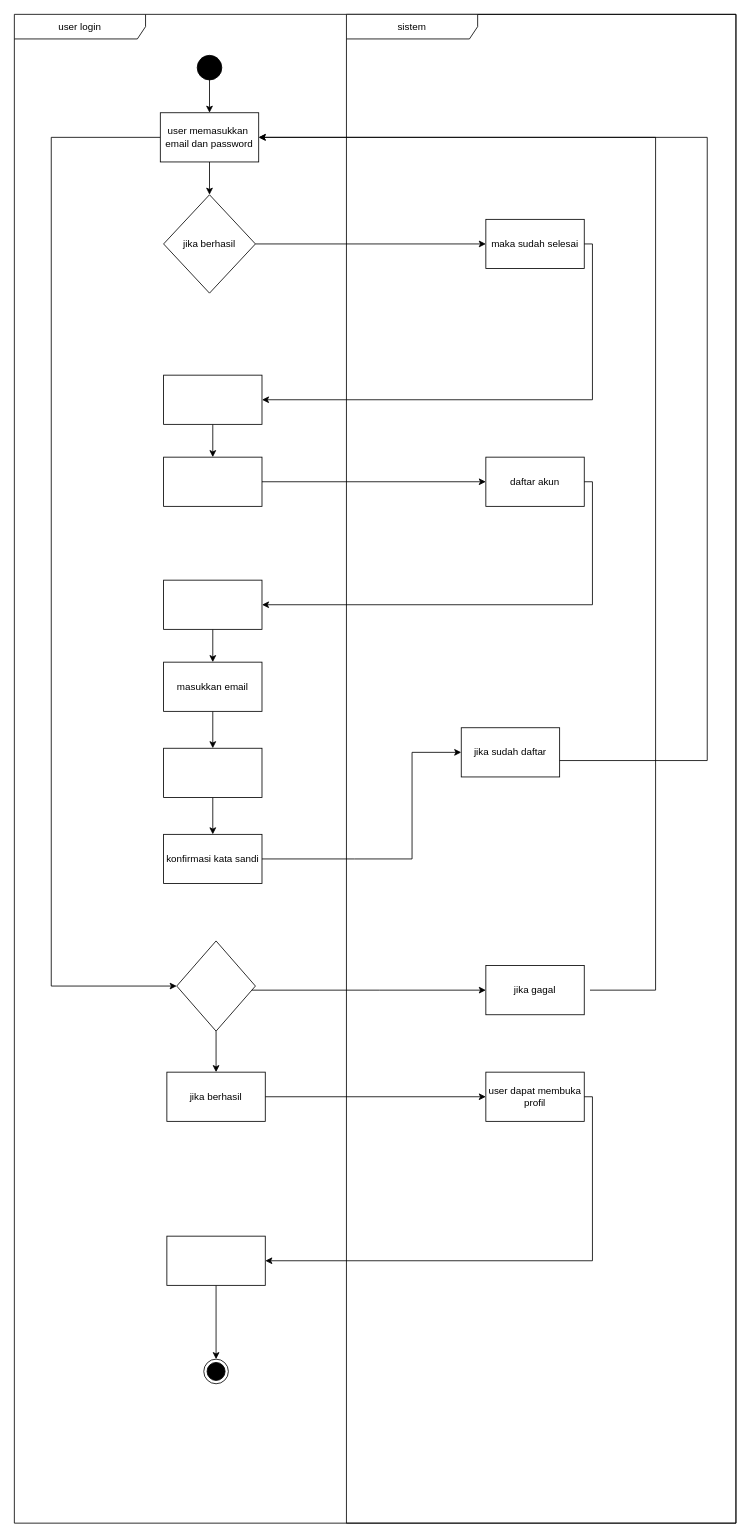
Some shapes in this 750 by 1538 pixel diagram are drawn without their labels. Each missing label, with the centre of its shape:
buka profil: (x=215, y=1260)
jika belum: (x=212, y=399)
konfirmasi: (x=215, y=985)
maka buat akun: (x=212, y=481)
masukkan kata sandi: (x=212, y=772)
masukkan nama: (x=212, y=604)
